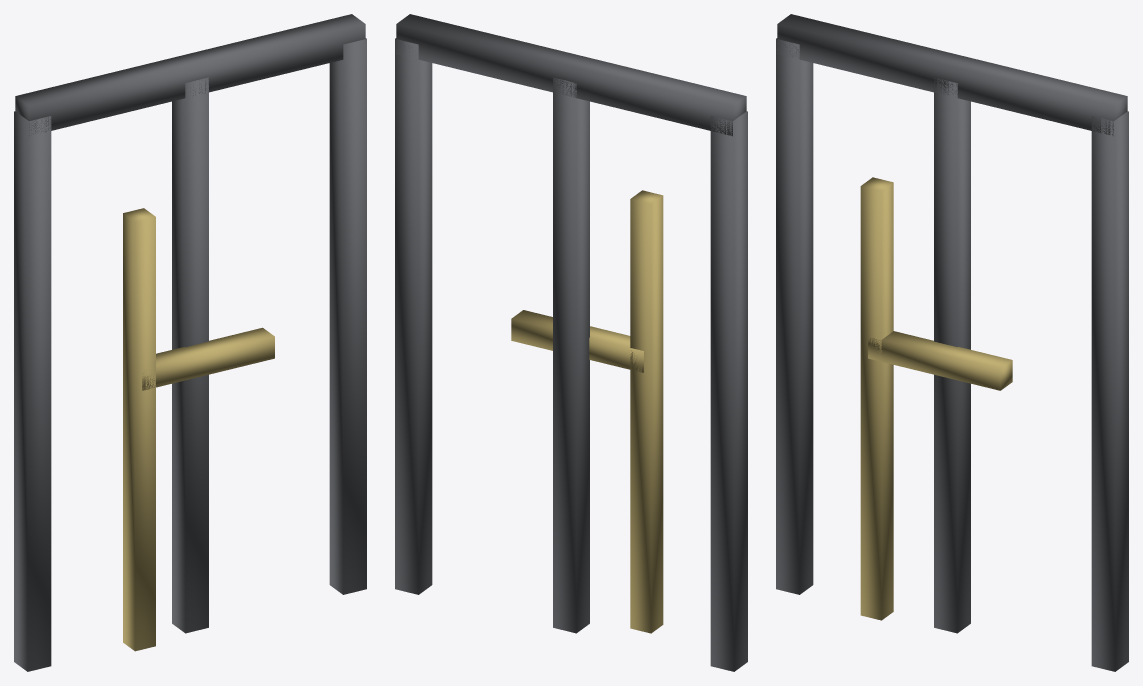
File: steel_gate_l60_h100.glb
The picture shows the model from 3 angles, left to right: view 1: azimuth 30°, elevation 25°; view 2: azimuth 150°, elevation 25°; view 3: azimuth 330°, elevation 25°; orthographic projection.
Visible parts, largest first — view 1: world; view 2: world; view 3: world.
Boxes of the visible parts, bbox=[...] form: world: bbox=[14, 14, 366, 671]; world: bbox=[395, 14, 747, 671]; world: bbox=[776, 14, 1128, 671].
Size of the model in its own units: 0.645 by 1.03 by 0.0825.
